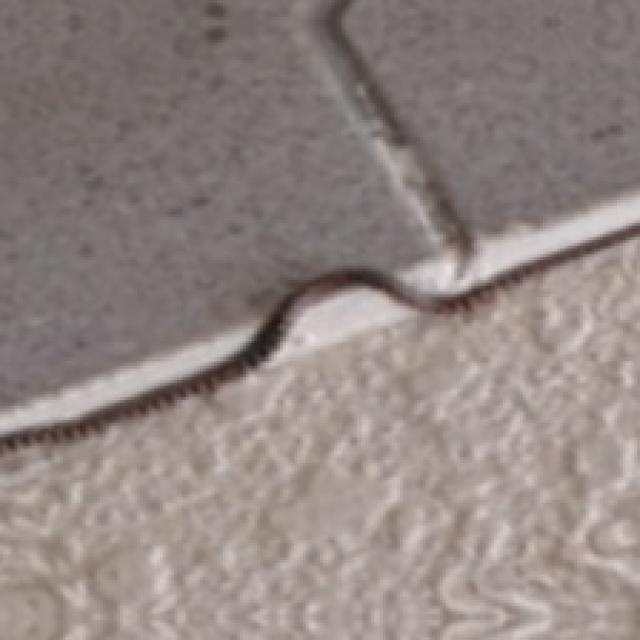paradise tree snake: (0, 0, 431, 403), (103, 286, 626, 466), (346, 0, 637, 231), (211, 383, 274, 400), (420, 363, 454, 380)
